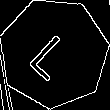L_NE: (26, 24, 82, 82)
